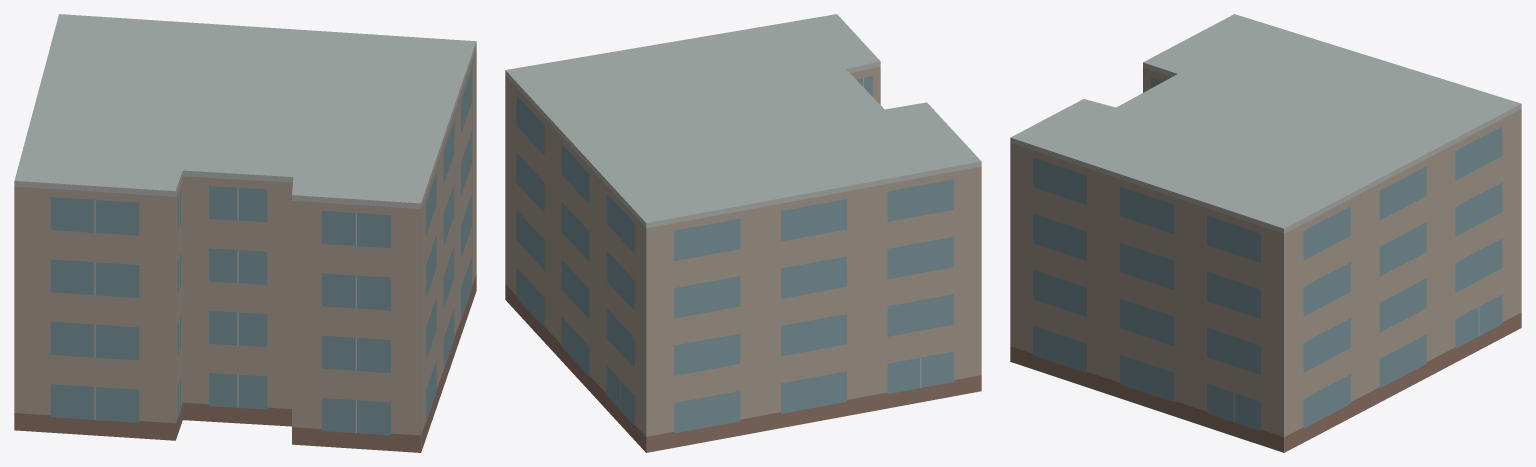
File: survey-upis-32798586.glb
3 views of the same model, side by side, from view 1: azimuth 30°, elevation 25°; view 2: azimuth 150°, elevation 25°; view 3: azimuth 270°, elevation 25° (orthographic). The views are drawn at different scales.
Visible parts, largest first — view 1: survey-upis-32798586.tmp; view 2: survey-upis-32798586.tmp; view 3: survey-upis-32798586.tmp.
Boxes of the visible parts, box(x1,y1,x2,y2) form: survey-upis-32798586.tmp: box(14, 14, 476, 452); survey-upis-32798586.tmp: box(505, 14, 981, 452); survey-upis-32798586.tmp: box(1010, 14, 1521, 452).
Size of the model in its own units: 21.99 by 10.7 by 22.13.
